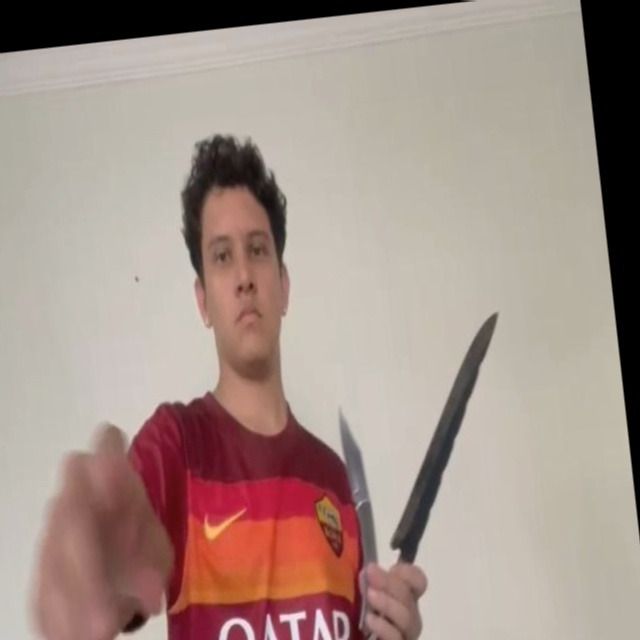Sharp-Object: (366, 310, 523, 553), (336, 403, 369, 510)
